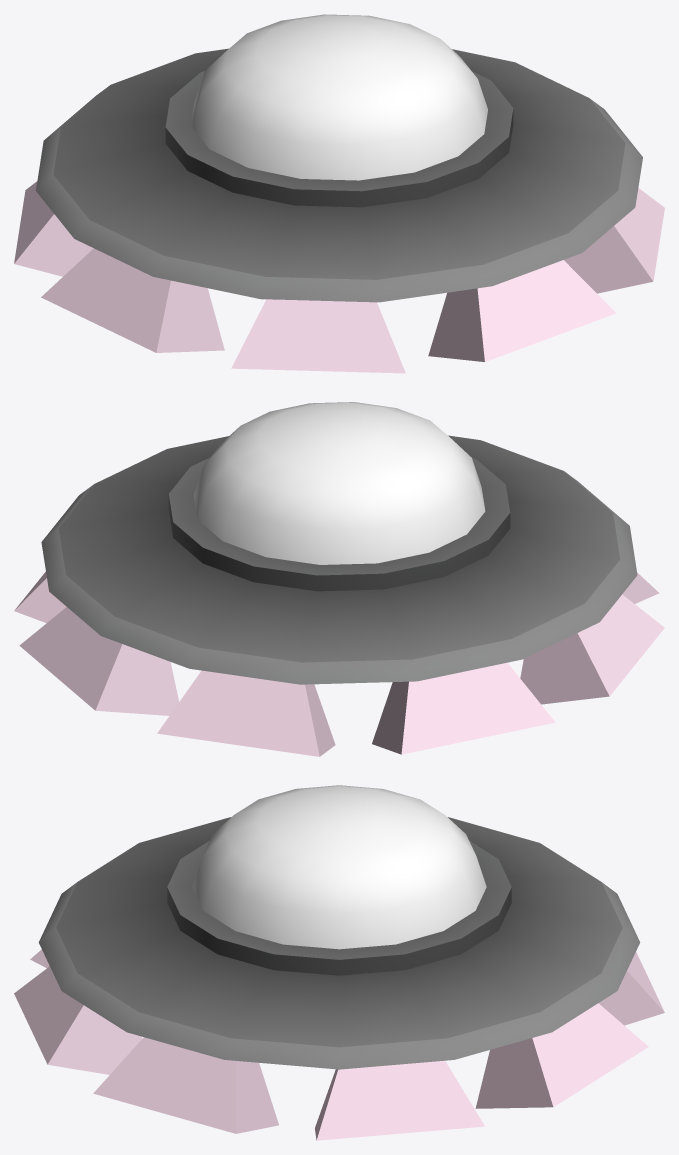
File: space-spacecraft-flying-saucer_v2.glb
3 renders of one model, top to bottom at view 1: azimuth 30°, elevation 25°; view 2: azimuth 150°, elevation 25°; view 3: azimuth 270°, elevation 25°, orthographic.
Visible parts, largest first — view 1: Flying Saucer_v2; view 2: Flying Saucer_v2; view 3: Flying Saucer_v2.
Boxes of the visible parts, x1,y1,x2,y2 form: Flying Saucer_v2: (14,14,664,373); Flying Saucer_v2: (14,402,664,756); Flying Saucer_v2: (14,785,664,1140).
Bounding box in the file's own units: 15 × 5.75 × 15.
